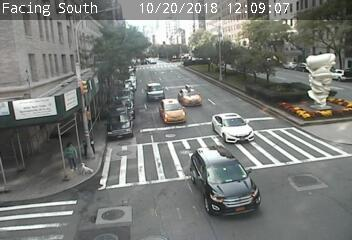carw: (189, 147, 262, 214), (211, 113, 255, 143), (159, 98, 188, 123), (179, 85, 203, 105), (147, 83, 166, 101)
